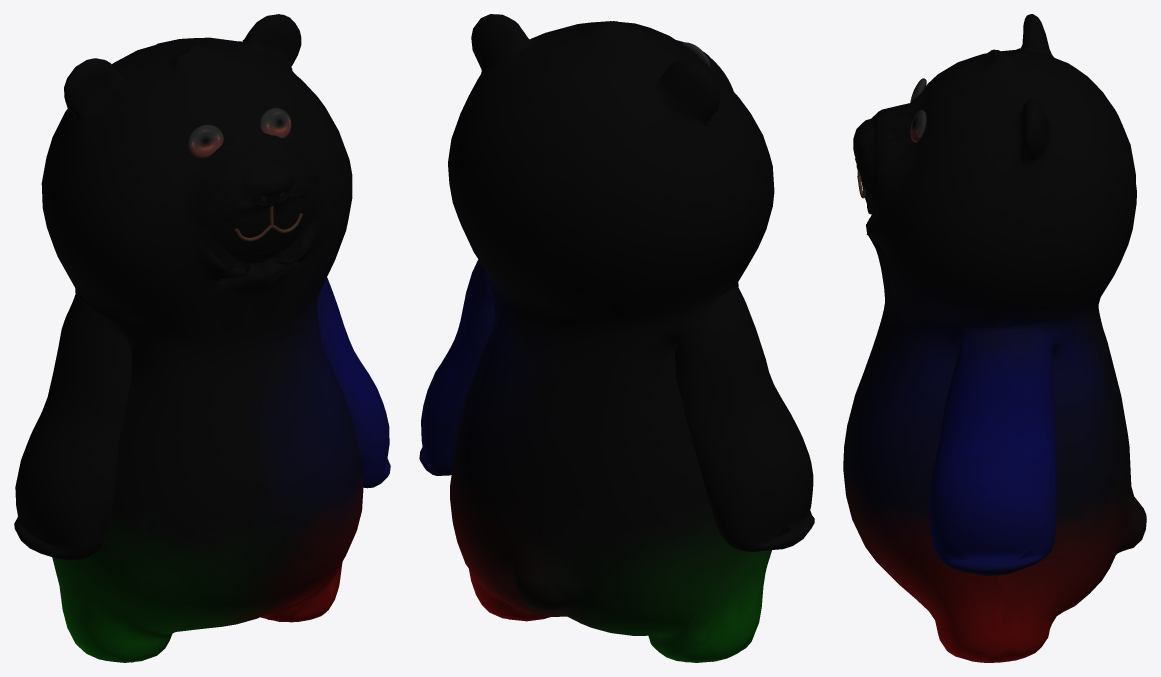
Rendered from bear_shell_v11.glb.
3 views of the same model, side by side, from view 1: azimuth 30°, elevation 25°; view 2: azimuth 150°, elevation 25°; view 3: azimuth 270°, elevation 25° (orthographic). The views are drawn at different scales.
Parts seen in each view (by area): view 1: BoundedShellGroom, Body, BrownBear_Normal; view 2: BoundedShellGroom, Body; view 3: BoundedShellGroom, Body, BrownBear_Normal.
Part boxes in pixels (bbox=[...]): BoundedShellGroom: bbox=[14, 14, 390, 662]; Body: bbox=[15, 18, 383, 660]; BrownBear_Normal: bbox=[188, 108, 291, 157]; BoundedShellGroom: bbox=[419, 14, 814, 662]; Body: bbox=[421, 14, 810, 652]; BoundedShellGroom: bbox=[843, 14, 1146, 662]; Body: bbox=[844, 17, 1139, 640]; BrownBear_Normal: bbox=[910, 78, 926, 142].
Bounding box in the file's own units: 1.59 × 2.44 × 1.21.
Materials: 4 (3 with a texture image).
